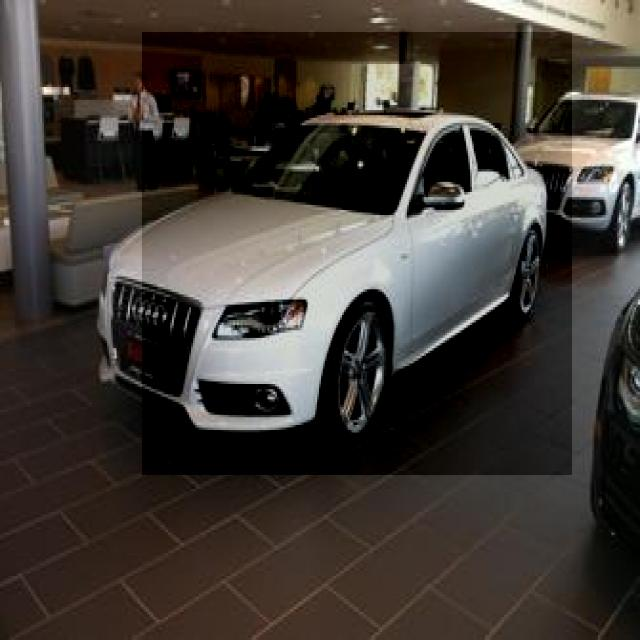Car: (142, 32, 572, 475)
